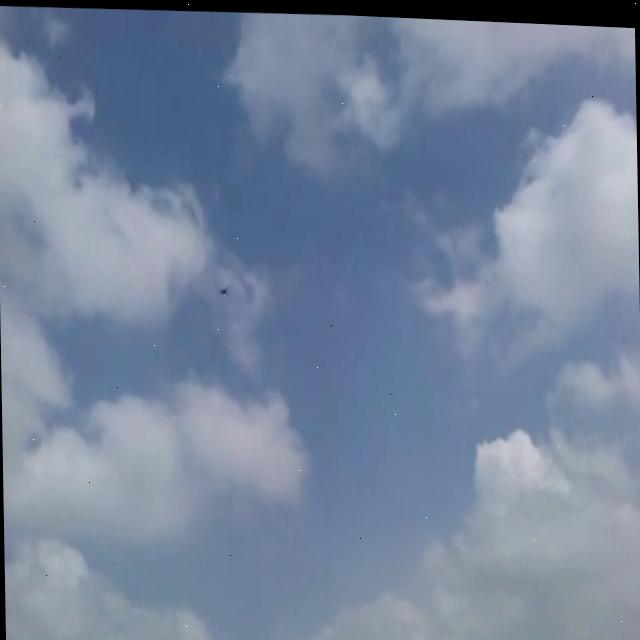drone: (214, 274, 230, 300)
